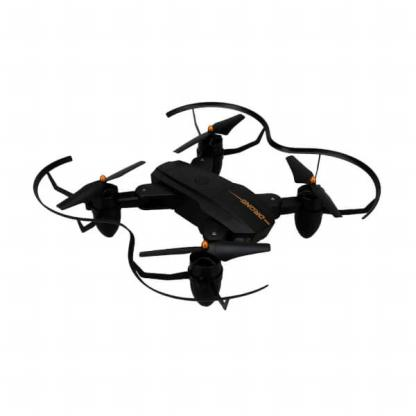drone: (34, 101, 382, 310)
